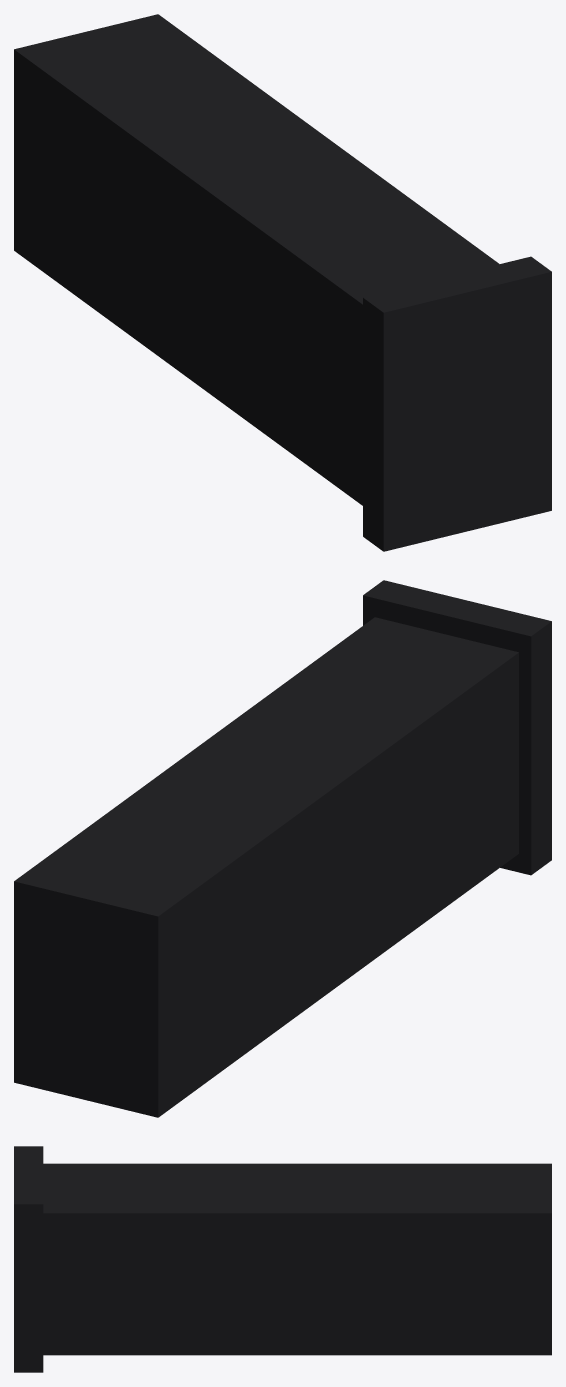
The model's file is MAC10_Mag30.fbx.
The picture shows the model from 3 angles, top to bottom: view 1: azimuth 30°, elevation 25°; view 2: azimuth 150°, elevation 25°; view 3: azimuth 270°, elevation 25°; orthographic projection. The views are drawn at different scales.
Parts seen in each view (by area): view 1: prims; view 2: prims; view 3: prims.
Part boxes in pixels (x1,y1,x2,y2): prims: (14,14,551,551); prims: (14,580,551,1117); prims: (14,1146,551,1372).
Size of the model in its own units: 0.0168 by 0.0228 by 0.066.
